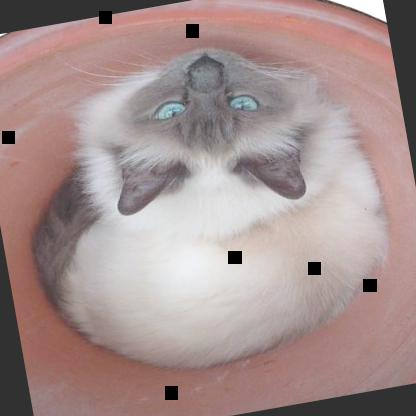cat: (2, 19, 407, 394)
